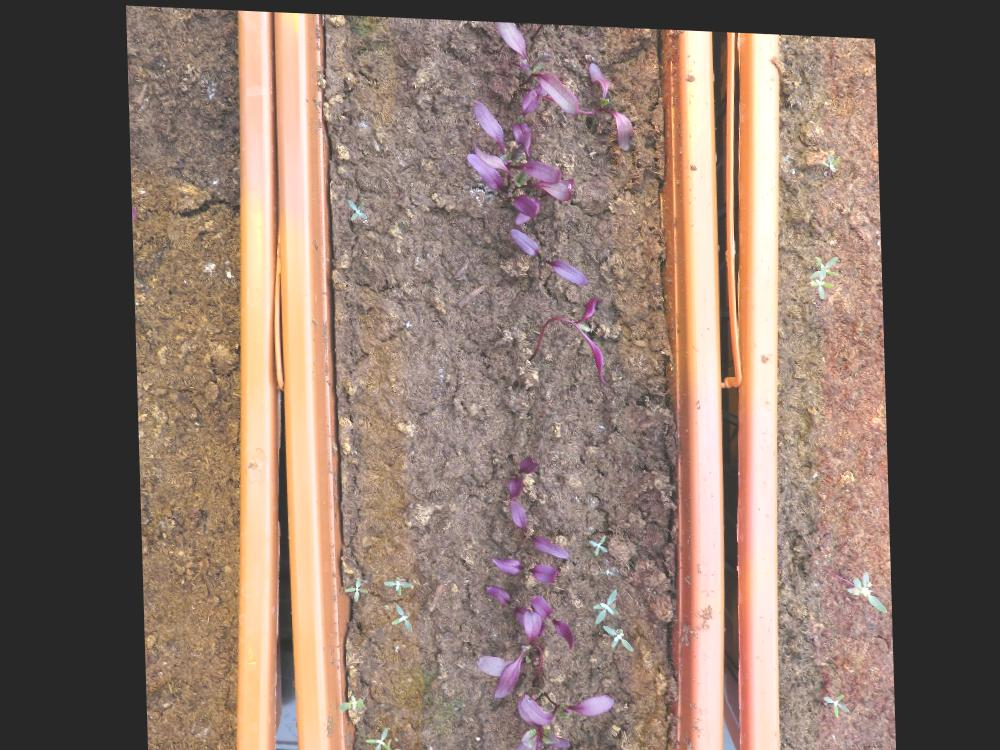weed: (589, 581, 617, 618), (598, 618, 632, 646), (818, 684, 847, 711), (340, 571, 367, 598), (386, 598, 410, 628), (334, 688, 365, 709), (380, 571, 410, 592), (345, 194, 367, 219), (585, 527, 606, 551), (820, 144, 841, 164)
